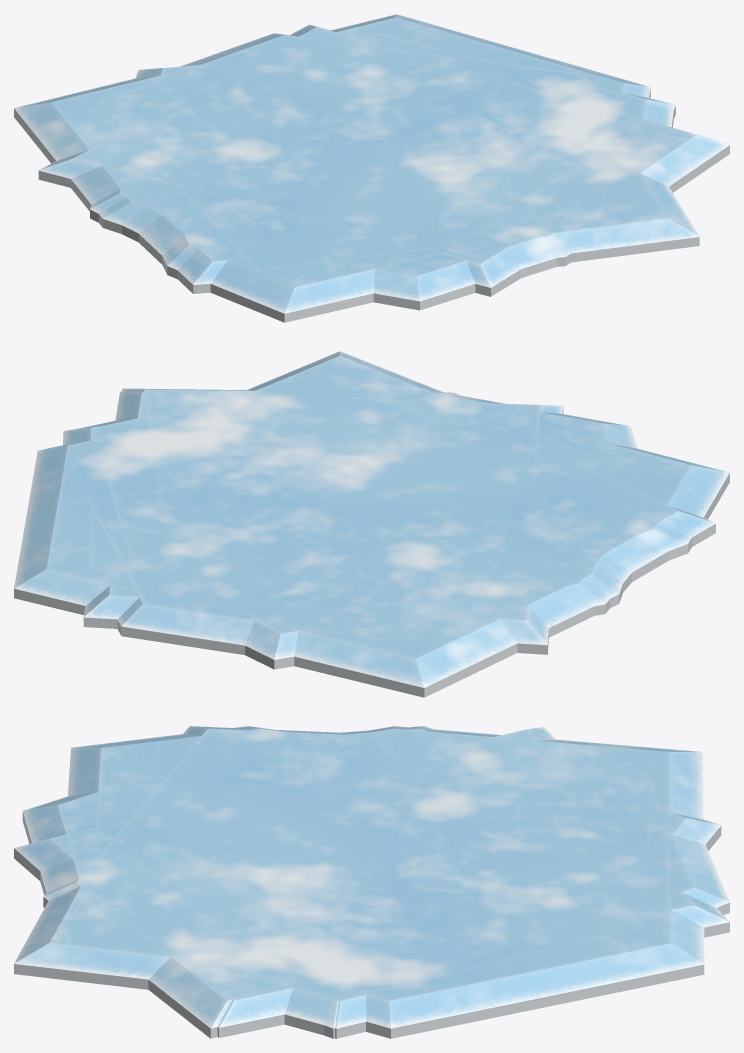
File: ice_tiles_v1.glb
3 renders of one model, top to bottom at view 1: azimuth 30°, elevation 25°; view 2: azimuth 150°, elevation 25°; view 3: azimuth 270°, elevation 25°, orthographic. The views are drawn at different scales.
Visible parts, largest first — view 1: Ice_Tile1, Ice_Tile2, Ice_Tile4, Ice_Tile5, Ice_Tile3, Ice_Tile6; view 2: Ice_Tile2, Ice_Tile3, Ice_Tile5, Ice_Tile4, Ice_Tile6, Ice_Tile1; view 3: Ice_Tile5, Ice_Tile3, Ice_Tile4, Ice_Tile6, Ice_Tile1, Ice_Tile2.
Boxes of the visible parts, left/top/right/bottom form: Ice_Tile1: left=38, top=24, right=724, bottom=296; Ice_Tile2: left=99, top=33, right=699, bottom=271; Ice_Tile4: left=114, top=33, right=674, bottom=322; Ice_Tile5: left=14, top=14, right=650, bottom=254; Ice_Tile3: left=88, top=52, right=729, bottom=293; Ice_Tile6: left=90, top=60, right=675, bottom=310; Ice_Tile2: left=73, top=351, right=647, bottom=654; Ice_Tile3: left=122, top=388, right=715, bottom=622; Ice_Tile5: left=14, top=383, right=622, bottom=697; Ice_Tile4: left=63, top=382, right=729, bottom=638; Ice_Tile6: left=64, top=385, right=637, bottom=669; Ice_Tile1: left=83, top=391, right=563, bottom=654; Ice_Tile5: left=73, top=726, right=704, bottom=1038; Ice_Tile3: left=43, top=726, right=607, bottom=1038; Ice_Tile4: left=68, top=726, right=654, bottom=1038; Ice_Tile6: left=22, top=726, right=721, bottom=1038; Ice_Tile1: left=14, top=727, right=729, bottom=1037; Ice_Tile2: left=14, top=742, right=729, bottom=989.
Bounding box in the file's own units: 1 × 0.035 × 1.
Materials: 6 (6 with a texture image).
